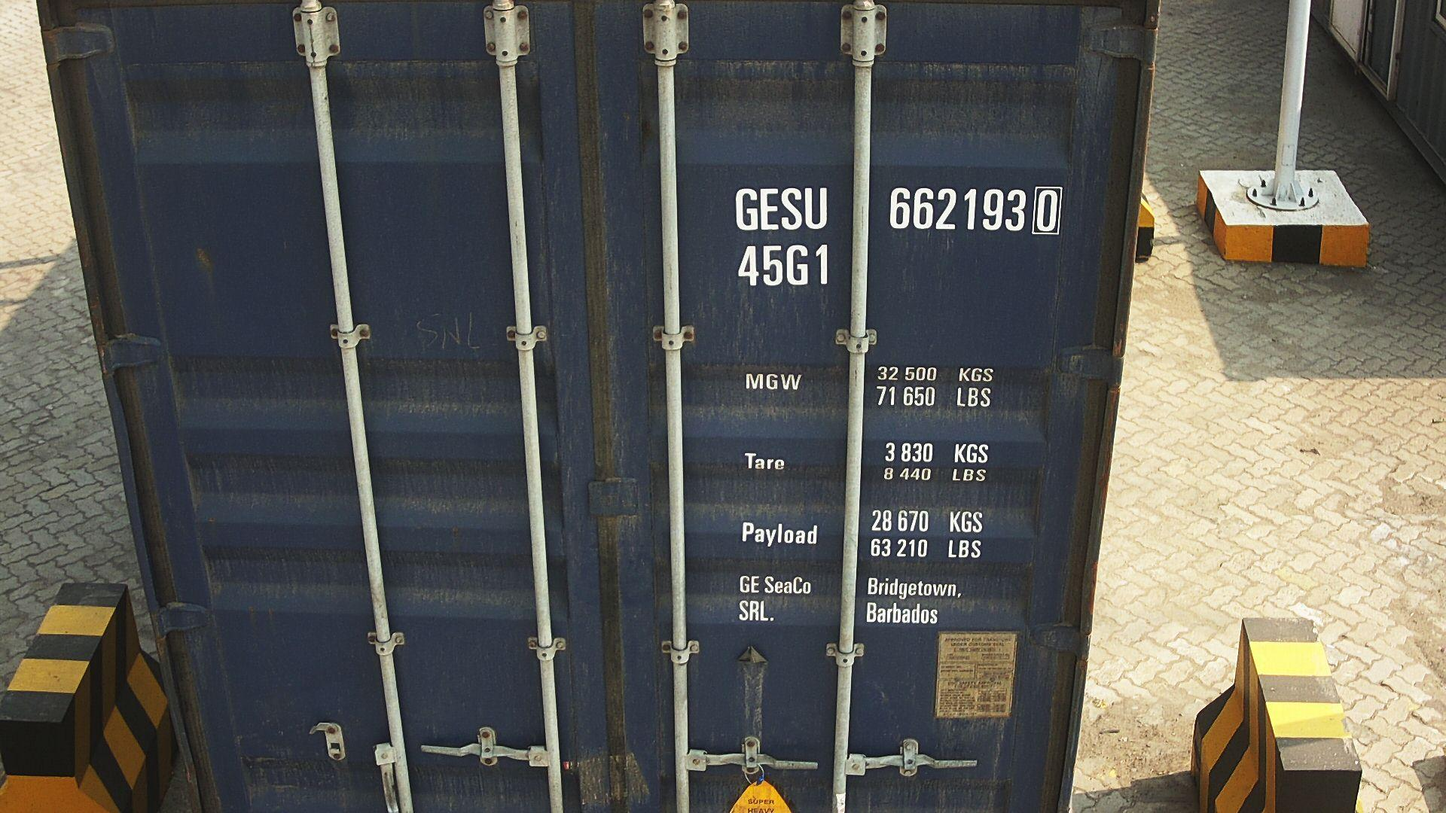container-numbers: (728, 181, 1069, 237), (736, 240, 834, 290)
